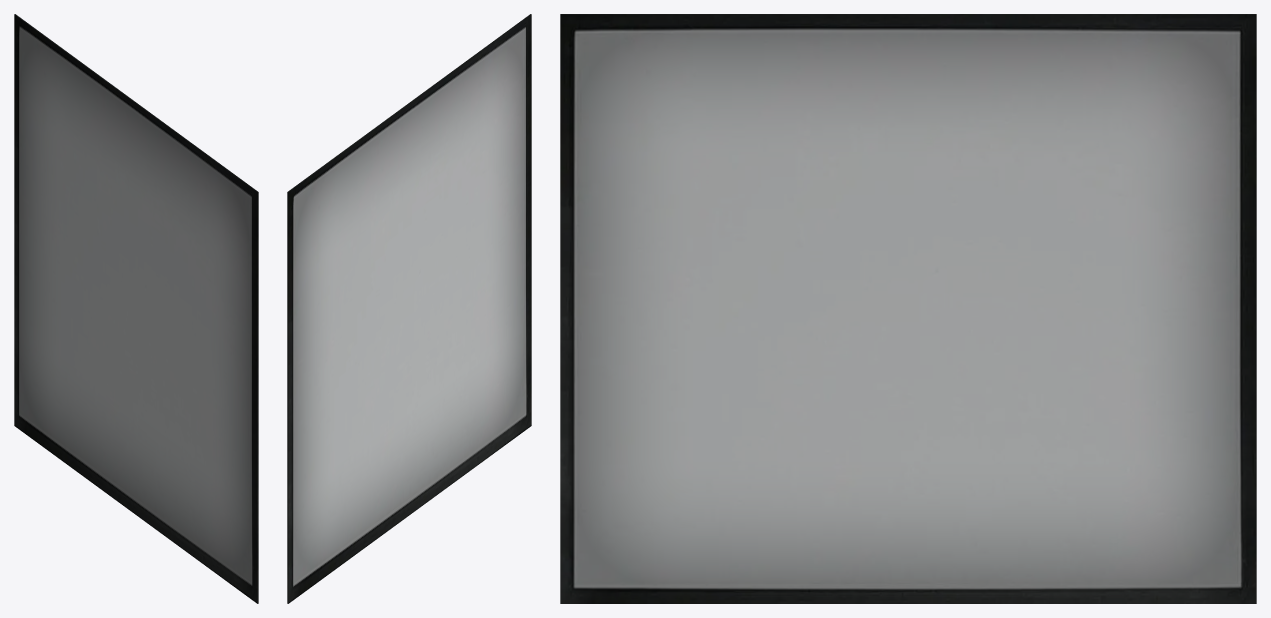
The model's file is Screen.FBX.
The picture shows the model from 3 angles, left to right: view 1: azimuth 30°, elevation 25°; view 2: azimuth 150°, elevation 25°; view 3: azimuth 270°, elevation 25°; orthographic projection. The views are drawn at different scales.
Parts seen in each view (by area): view 1: Screen; view 2: Screen; view 3: Screen.
Boxes of the visible parts, left/top/right/bottom form: Screen: left=14, top=14, right=258, bottom=603; Screen: left=287, top=14, right=531, bottom=603; Screen: left=560, top=14, right=1256, bottom=603.
Size of the model in its own units: 0.1969 by 70.88 by 75.92.
1 material, 1 textured.
